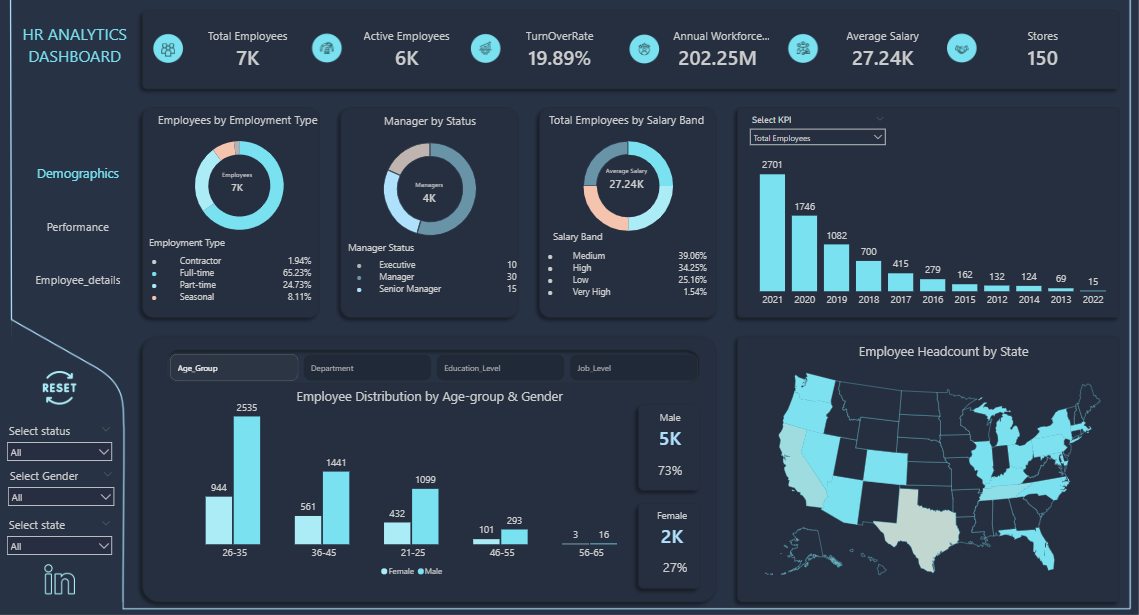

Layout of this report page (visuals, bound fields, positions):
{"tool":"powerbi","page":{"name":"Demographics","canvas":[1920,1080],"ordinal":0},"visuals":[{"type":"cardVisual","fields":{"Data":["Measure_Table.Active Employees"]},"box":[574.7,70,229.9,113.2],"z":0},{"type":"cardVisual","fields":{"Data":["Measure_Table.Total Employees"]},"box":[310.7,70,229.9,113.2],"z":1000},{"type":"cardVisual","fields":{"Data":["Measure_Table.TurnOverRate"]},"box":[829.8,70,229.9,113.2],"z":2000},{"type":"cardVisual","fields":{"Data":["Measure_Table.Annual Workforce Cost"]},"box":[1093.8,70,229.9,113.2],"z":3000},{"type":"cardVisual","fields":{"Data":["Measure_Table.Average Salary"]},"box":[1368.6,70,229.9,113.2],"z":4000},{"type":"cardVisual","fields":{"Data":["Measure_Table.Stores"]},"box":[1634.4,70,229.9,113.2],"z":5000},{"type":"cardVisual","fields":{"Data":["Measure_Table.Total Employees"]},"box":[335.7,312.9,144.3,67.1],"z":6000},{"type":"tableEx","fields":{"Values":["Measure_Table.Icon","employees.Employment_Type","Measure_Table.Total Employees"]},"box":[252.9,434.3,288.6,124.3],"z":7000},{"type":"textbox","box":[254.3,434.1,164,38.4],"z":8000},{"type":"donutChart","title":"Employees by Employment Type","fields":{"Y":["Measure_Table.Total Employees"],"Category":["employees.Employment_Type"]},"box":[270.5,232.1,281,219.9],"z":9000},{"type":"donutChart","title":"Manager by Status","fields":{"Category":["employees.Manager_Status"],"Y":["Measure_Table.Managers"]},"box":[582.9,232.9,290,228.6],"z":10000},{"type":"tableEx","fields":{"Values":["Measure_Table.Icon","employees.Manager_Status","Measure_Table.Managers"]},"box":[595.7,441.4,288.6,134.3],"z":11000},{"type":"textbox","box":[585.9,441.7,194.7,37.9],"z":12000},{"type":"cardVisual","fields":{"Data":["Measure_Table.Manager Count"]},"box":[657.1,330,141.4,71.4],"z":13000},{"type":"donutChart","title":"Total Employees by Salary Band","fields":{"Y":["Measure_Table.Total Employees"],"Category":["vw_salary_band.Salary_Band"]},"box":[921.6,232.1,274,221.7],"z":14000},{"type":"tableEx","title":"Salary band","fields":{"Values":["Measure_Table.Icon","vw_salary_band.Salary_Band","Measure_Table.Total Employees %"]},"box":[914,427.3,287.8,123.8],"z":15000},{"type":"cardVisual","fields":{"Data":["Measure_Table.Average Salary"]},"box":[980,300,152.9,84.3],"z":16000},{"type":"clusteredColumnChart","fields":{"Category":["employees.Job_Level"],"Series":["employees.Gender"],"Y":["Measure_Table.Total Employees"]},"box":[290,694.3,820,321.4],"z":17000},{"type":"advancedSlicerVisual","fields":{"Values":["Demographics 3.Demographics"]},"box":[289.5,629.7,893,55.8],"z":18000},{"type":"cardVisual","fields":{"Data":["Measure_Table.Male"]},"box":[1072.9,710,110,104.3],"z":19000},{"type":"cardVisual","fields":{"Data":["Measure_Table.Male %"]},"box":[1072.9,794.3,110,61.4],"z":20000},{"type":"cardVisual","fields":{"Data":["Measure_Table.Female"]},"box":[1077.1,872.9,110,104.3],"z":21000},{"type":"cardVisual","fields":{"Data":["Measure_Table.Female %"]},"box":[1081.4,957.1,110,61.4],"z":22000},{"type":"slicer","fields":{"Values":["KPI.KPI"]},"box":[1252.3,232,245.9,61],"z":23000},{"type":"shapeMap","fields":{"Value":["Measure_Table.Total Employees"],"Category":["employees.State"]},"box":[1252.3,629.7,629.7,409.9],"z":24000},{"type":"textbox","box":[1345.7,610,478.6,40],"z":25000},{"type":"textbox","box":[488.6,685.7,478.6,40],"z":26000},{"type":"slicer","title":"Select Status","fields":{"Values":["employees.Status"]},"box":[14,744.8,195.3,78.5],"z":27000},{"type":"slicer","title":"Select Status","fields":{"Values":["employees.State"]},"box":[14,901.7,195.3,78.5],"z":28000},{"type":"slicer","title":"Select Status","fields":{"Values":["employees.Gender"]},"box":[14.4,820.3,196.5,77.5],"z":29000},{"type":"pageNavigator","box":[30.6,293.9,223.5,257.8],"z":30000},{"type":"textbox","box":[33.1,78.5,205.8,102.9],"z":31000},{"type":"image","box":[76.7,985.5,69.8,51],"z":32000},{"type":"image","box":[75,662.8,71.5,55.8],"z":33000},{"type":"textbox","box":[928.5,423.7,165.9,37.9],"z":34000},{"type":"clusteredColumnChart","fields":{"Y":["Measure_Table.Total Employees"],"Category":["Calendar.Year"]},"box":[1252.3,293,629.7,272.1],"z":35000}]}

Visuals, with their boxes on the page's 1920x1080 design canvas (x1, y1, x2, y2). These are canvas units, not pixel positions in the 1139x615 screenshot, which may show the page scaled, cropped or inside an application window:
cardVisual - Measure_Table.Active Employees: Rect(575, 70, 805, 183)
cardVisual - Measure_Table.Total Employees: Rect(311, 70, 541, 183)
cardVisual - Measure_Table.TurnOverRate: Rect(830, 70, 1060, 183)
cardVisual - Measure_Table.Annual Workforce Cost: Rect(1094, 70, 1324, 183)
cardVisual - Measure_Table.Average Salary: Rect(1369, 70, 1598, 183)
cardVisual - Measure_Table.Stores: Rect(1634, 70, 1864, 183)
cardVisual - Measure_Table.Total Employees: Rect(336, 313, 480, 380)
tableEx - Measure_Table.Icon x employees.Employment_Type: Rect(253, 434, 542, 559)
textbox: Rect(254, 434, 418, 472)
"Employees by Employment Type" donutChart: Rect(270, 232, 552, 452)
"Manager by Status" donutChart: Rect(583, 233, 873, 462)
tableEx - Measure_Table.Icon x employees.Manager_Status: Rect(596, 441, 884, 576)
textbox: Rect(586, 442, 781, 480)
cardVisual - Measure_Table.Manager Count: Rect(657, 330, 798, 401)
"Total Employees by Salary Band" donutChart: Rect(922, 232, 1196, 454)
"Salary band" tableEx: Rect(914, 427, 1202, 551)
cardVisual - Measure_Table.Average Salary: Rect(980, 300, 1133, 384)
clusteredColumnChart - employees.Job_Level x employees.Gender: Rect(290, 694, 1110, 1016)
advancedSlicerVisual - Demographics 3.Demographics: Rect(290, 630, 1182, 686)
cardVisual - Measure_Table.Male: Rect(1073, 710, 1183, 814)
cardVisual - Measure_Table.Male %: Rect(1073, 794, 1183, 856)
cardVisual - Measure_Table.Female: Rect(1077, 873, 1187, 977)
cardVisual - Measure_Table.Female %: Rect(1081, 957, 1191, 1018)
slicer - KPI.KPI: Rect(1252, 232, 1498, 293)
shapeMap - Measure_Table.Total Employees x employees.State: Rect(1252, 630, 1882, 1040)
textbox: Rect(1346, 610, 1824, 650)
textbox: Rect(489, 686, 967, 726)
"Select Status" slicer: Rect(14, 745, 209, 823)
"Select Status" slicer: Rect(14, 902, 209, 980)
"Select Status" slicer: Rect(14, 820, 211, 898)
pageNavigator: Rect(31, 294, 254, 552)
textbox: Rect(33, 78, 239, 181)
image: Rect(77, 986, 146, 1036)
image: Rect(75, 663, 146, 719)
textbox: Rect(928, 424, 1094, 462)
clusteredColumnChart - Measure_Table.Total Employees x Calendar.Year: Rect(1252, 293, 1882, 565)
